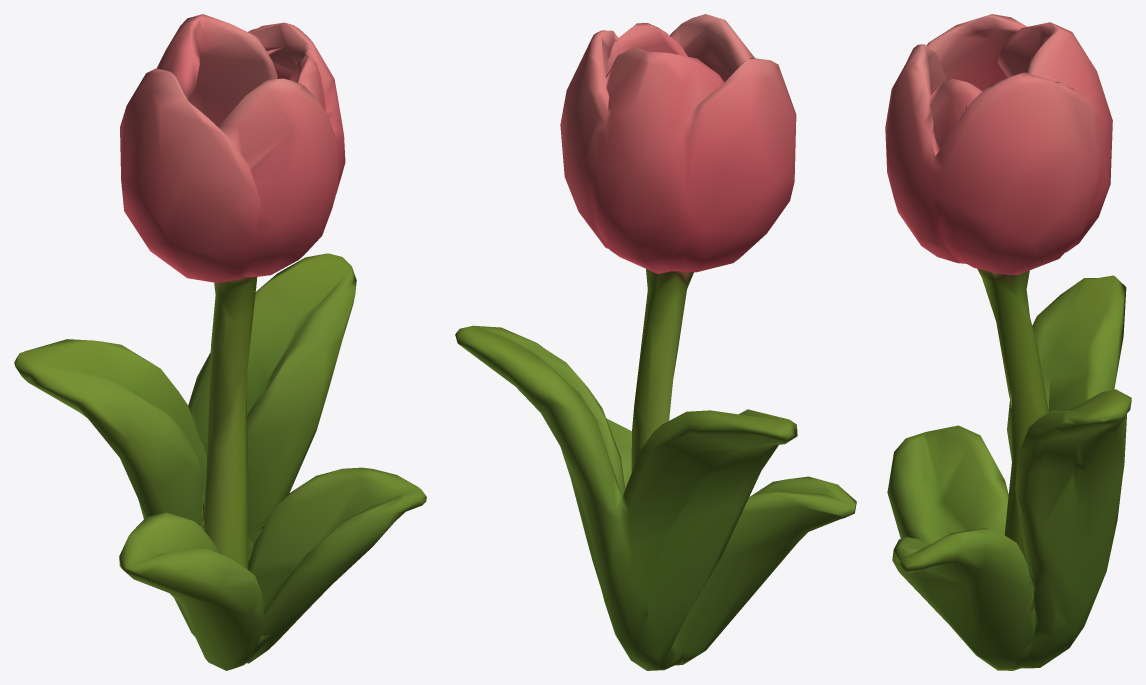
File: tulip.glb
The picture shows the model from 3 angles, left to right: view 1: azimuth 30°, elevation 25°; view 2: azimuth 150°, elevation 25°; view 3: azimuth 270°, elevation 25°; orthographic projection.
Bounding box in the file's own units: 1.05 × 1.9 × 0.6689.
